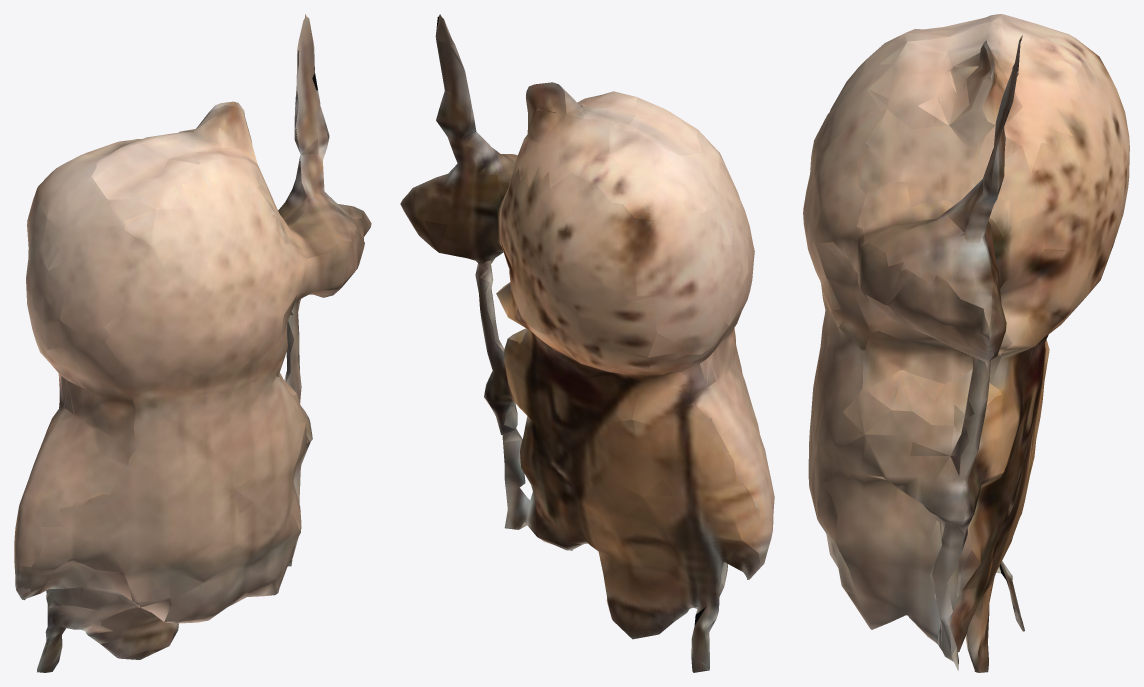
3 renders of one model, left to right at view 1: azimuth 30°, elevation 25°; view 2: azimuth 150°, elevation 25°; view 3: azimuth 270°, elevation 25°, orthographic. The views are drawn at different scales.
Visible parts, largest first — view 1: world; view 2: world; view 3: world.
Boxes of the visible parts, x1,y1,x2,y2 form: world: (14, 14, 371, 672); world: (400, 14, 774, 672); world: (803, 14, 1129, 672).
Size of the model in its own units: 0.3077 by 0.4822 by 0.1896.
Materials: 1 (1 with a texture image).
